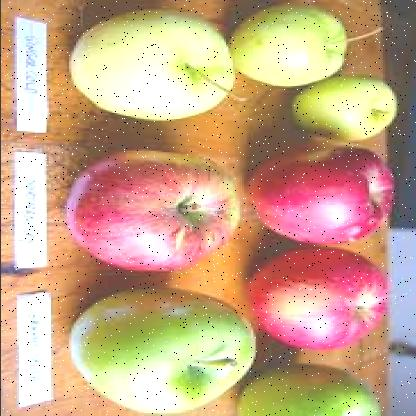apple: (70, 289, 254, 407), (75, 151, 241, 265), (248, 146, 393, 241), (89, 15, 225, 116), (259, 253, 382, 348), (232, 6, 348, 89), (289, 72, 398, 140), (257, 361, 377, 412)
